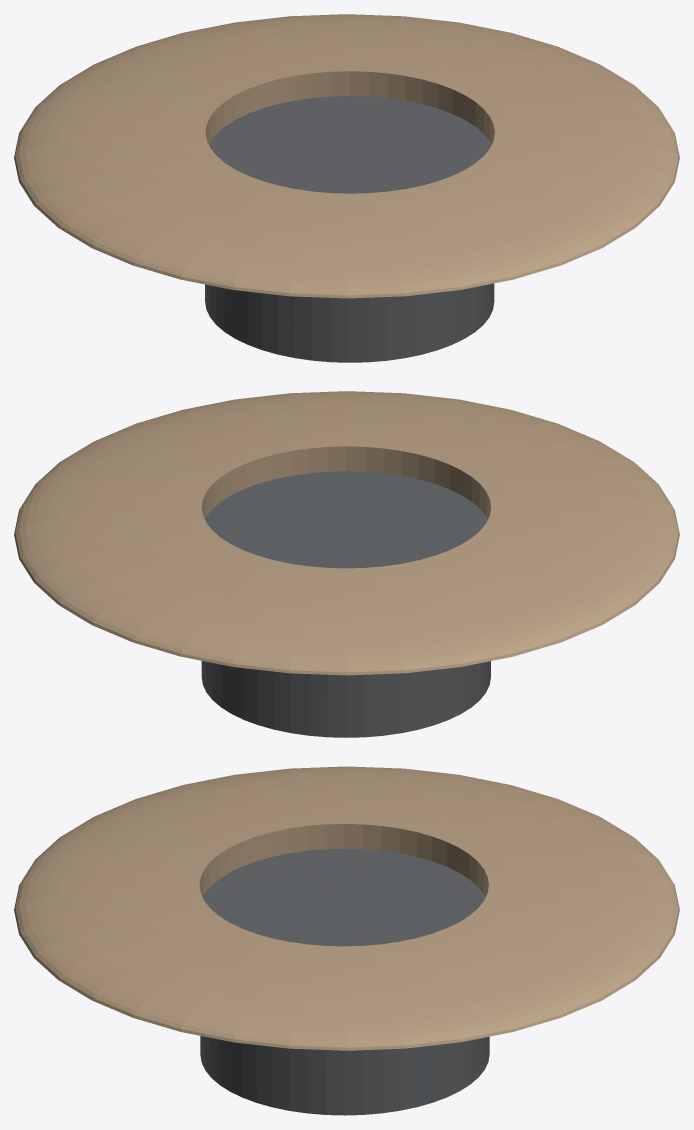
Rendered from Tremendous Rottis (2).glb.
The picture shows the model from 3 angles, top to bottom: view 1: azimuth 30°, elevation 25°; view 2: azimuth 150°, elevation 25°; view 3: azimuth 270°, elevation 25°; orthographic projection.
Visible parts, largest first — view 1: Mesh_Mesh_head_geo.001_lambert2SG.001; view 2: Mesh_Mesh_head_geo.001_lambert2SG.001; view 3: Mesh_Mesh_head_geo.001_lambert2SG.001.
Part boxes in pixels (x1=…): Mesh_Mesh_head_geo.001_lambert2SG.001: x1=14, y1=14, x2=679, y2=362; Mesh_Mesh_head_geo.001_lambert2SG.001: x1=14, y1=391, x2=679, y2=737; Mesh_Mesh_head_geo.001_lambert2SG.001: x1=14, y1=766, x2=679, y2=1115.
Bounding box in the file's own units: 0.021 × 0.00591 × 0.021.
